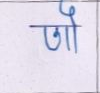ai_matra: (59, 1, 80, 25)
